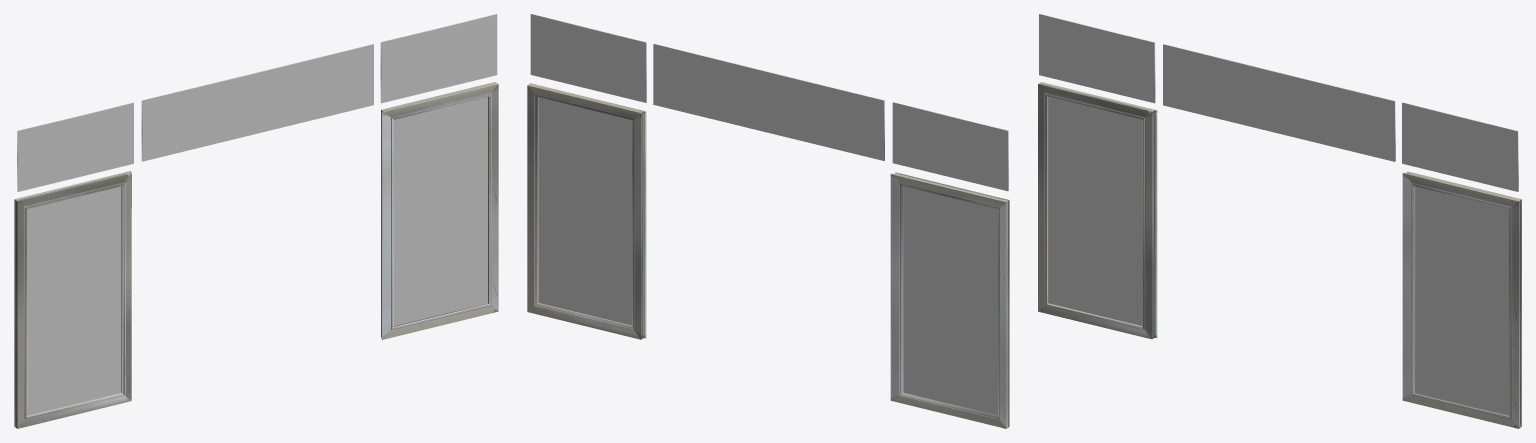
The model's file is Window.fbx.
3 views of the same model, side by side, from view 1: azimuth 30°, elevation 25°; view 2: azimuth 150°, elevation 25°; view 3: azimuth 330°, elevation 25° (orthographic).
Parts seen in each view (by area): view 1: Window; view 2: Window; view 3: Window.
Part boxes in pixels (x1=…): Window: x1=14, y1=14, x2=498, y2=428; Window: x1=527, y1=14, x2=1009, y2=428; Window: x1=1038, y1=14, x2=1521, y2=428.
Size of the model in its own units: 279 by 165 by 3.48.
2 materials, 1 textured.
